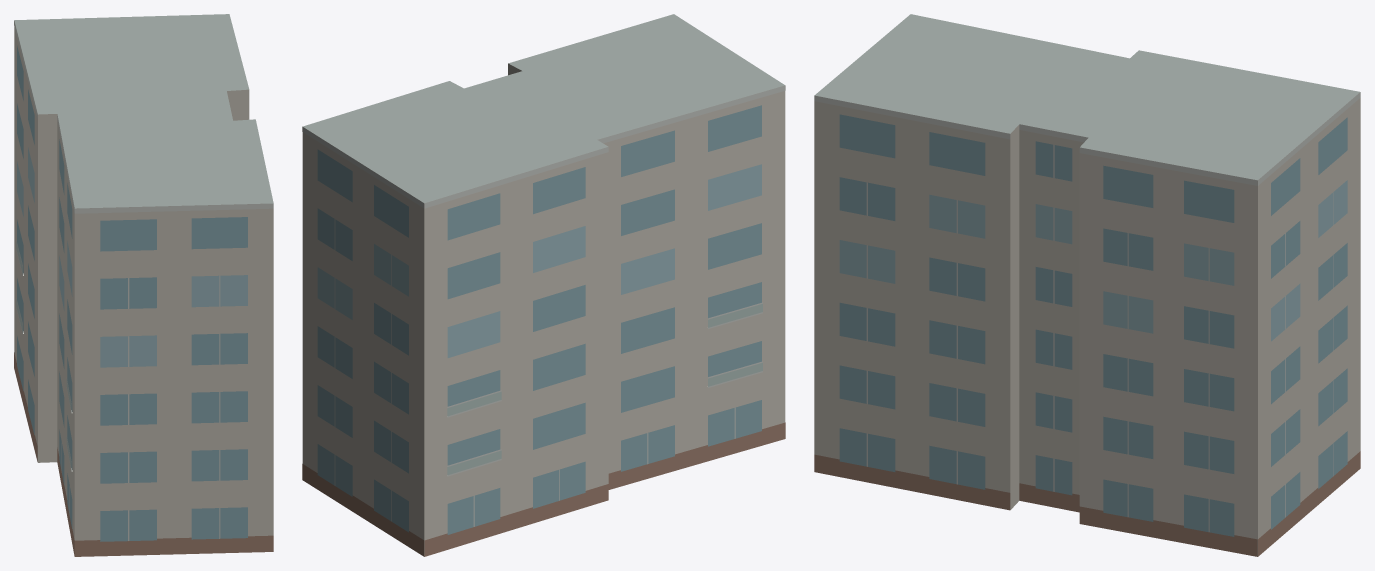
The model's file is survey-upis-33010537.glb.
3 views of the same model, side by side, from view 1: azimuth 30°, elevation 25°; view 2: azimuth 150°, elevation 25°; view 3: azimuth 270°, elevation 25° (orthographic). The views are drawn at different scales.
Visible parts, largest first — view 1: survey-upis-33010537.tmp; view 2: survey-upis-33010537.tmp; view 3: survey-upis-33010537.tmp.
Boxes of the visible parts, bbox=[...] form: survey-upis-33010537.tmp: bbox=[14, 14, 273, 556]; survey-upis-33010537.tmp: bbox=[302, 14, 785, 556]; survey-upis-33010537.tmp: bbox=[814, 14, 1360, 556].
Bounding box in the file's own units: 15.36 × 16.2 × 21.31.
